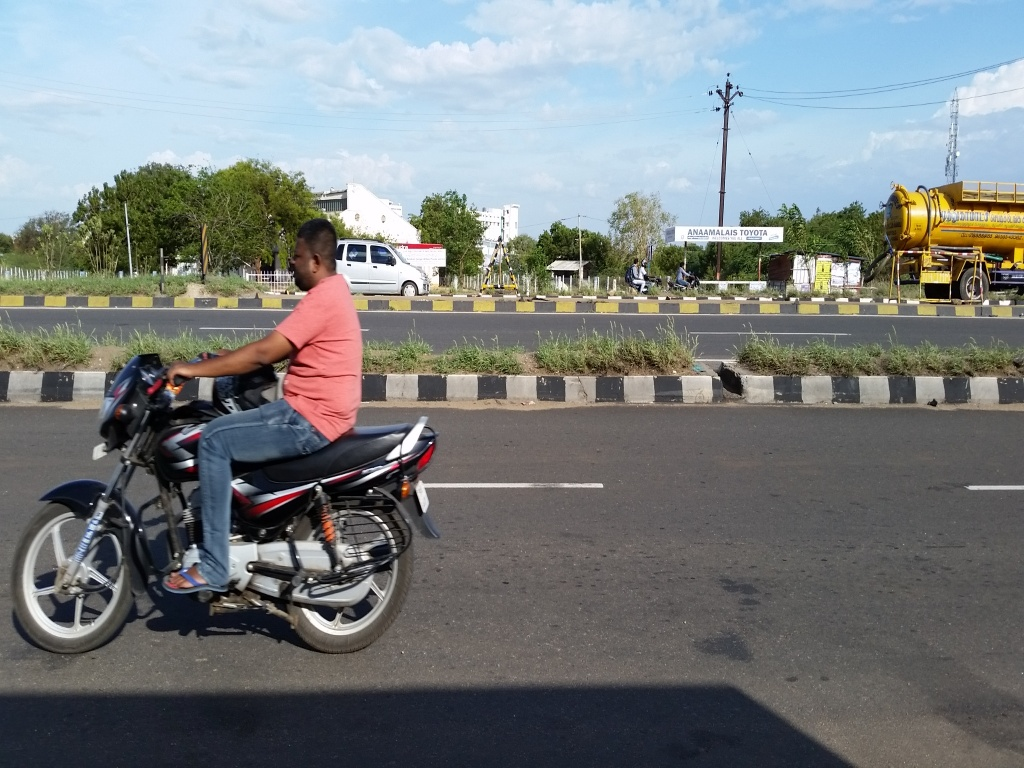biker: (2, 162, 458, 672)
nohelmet: (285, 210, 350, 302)
